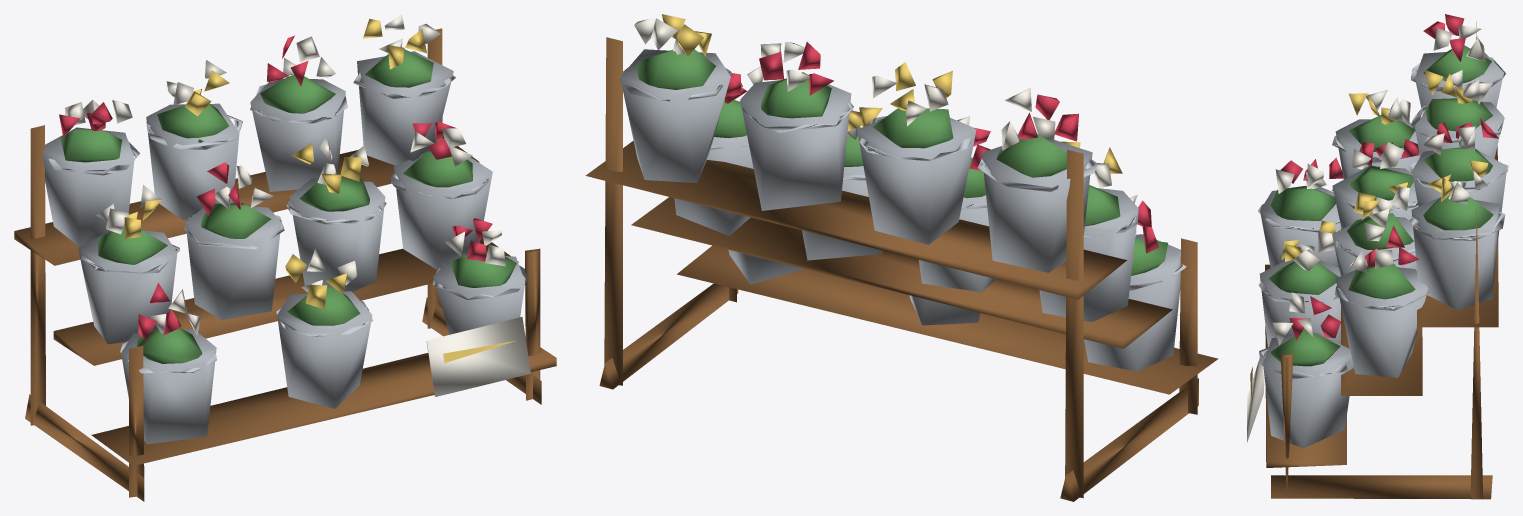
Rendered from flower_buckets.glb.
3 views of the same model, side by side, from view 1: azimuth 30°, elevation 25°; view 2: azimuth 150°, elevation 25°; view 3: azimuth 270°, elevation 25° (orthographic). The views are drawn at different scales.
Visible parts, largest first — view 1: flower_buckets; view 2: flower_buckets; view 3: flower_buckets.
Boxes of the visible parts, bbox=[...] form: flower_buckets: bbox=[14, 14, 556, 501]; flower_buckets: bbox=[585, 14, 1218, 501]; flower_buckets: bbox=[1247, 14, 1508, 499].
Size of the model in its own units: 1.5 by 1.09 by 0.828.
